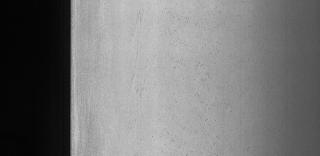silk spot: (124, 13, 258, 147)
